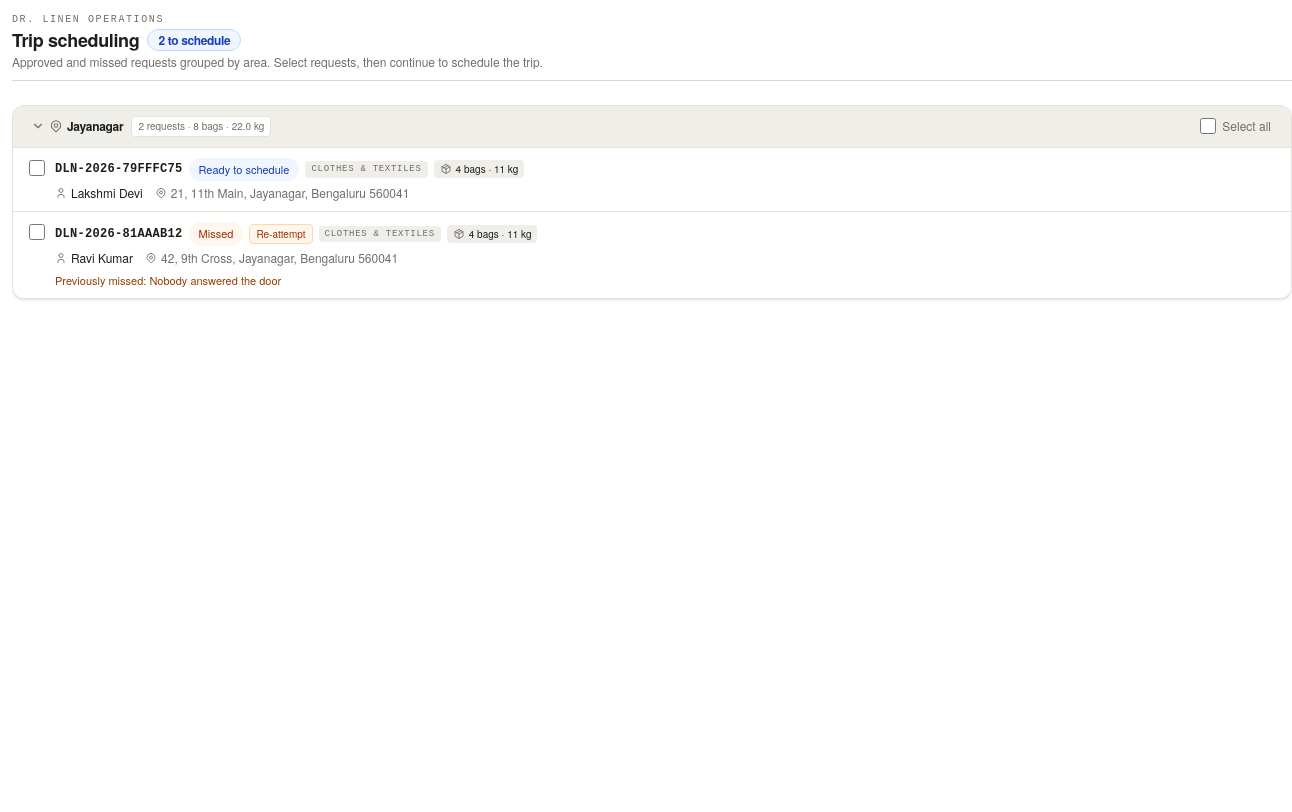
TextileSchedulePage › clears the selection from the sticky bar
The image size is (1292, 812).
Click the checkbox named "Select DLN-2026-79FFFC75" at (37, 168), box [29, 160, 45, 176]
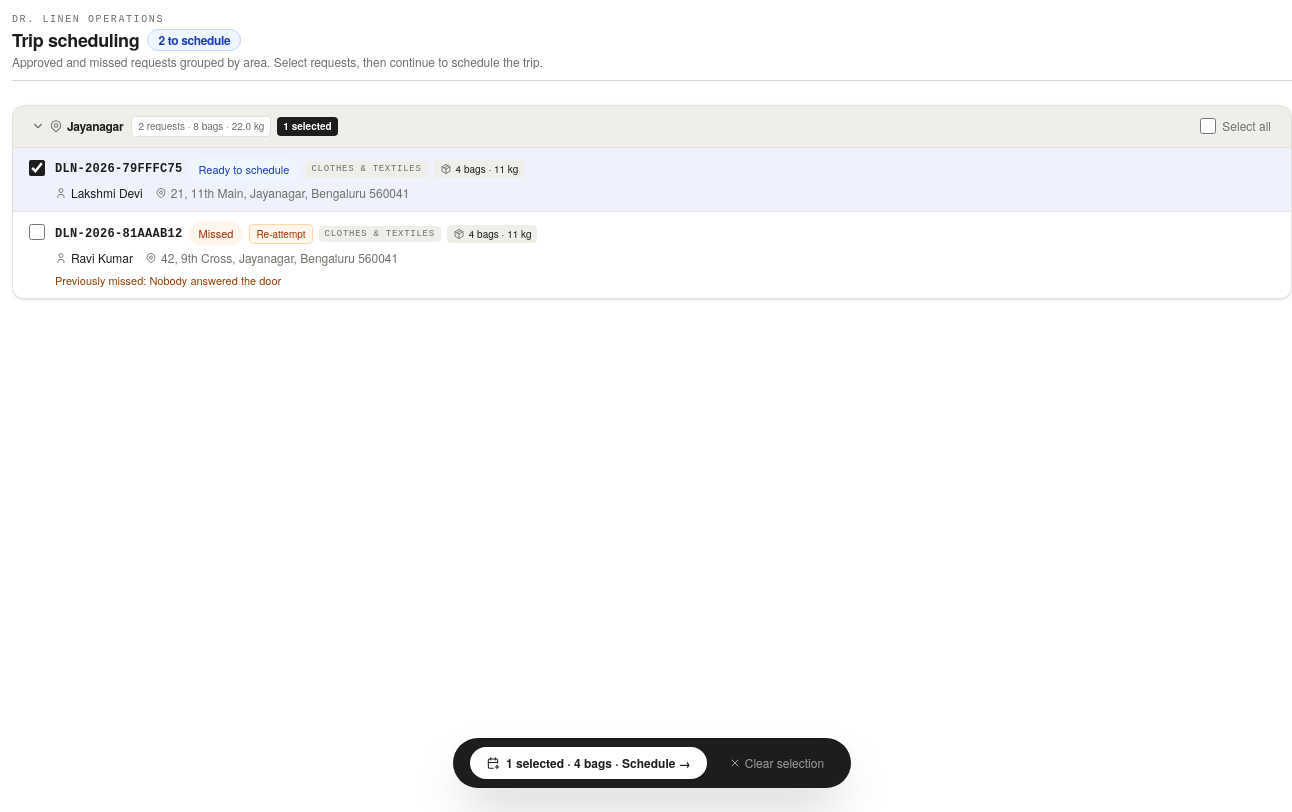
Check: the button "1 selected · 4 bags · Schedule →" is shown, box [470, 747, 707, 779]
Click the button "Clear selection" at (776, 763), box [719, 747, 834, 779]
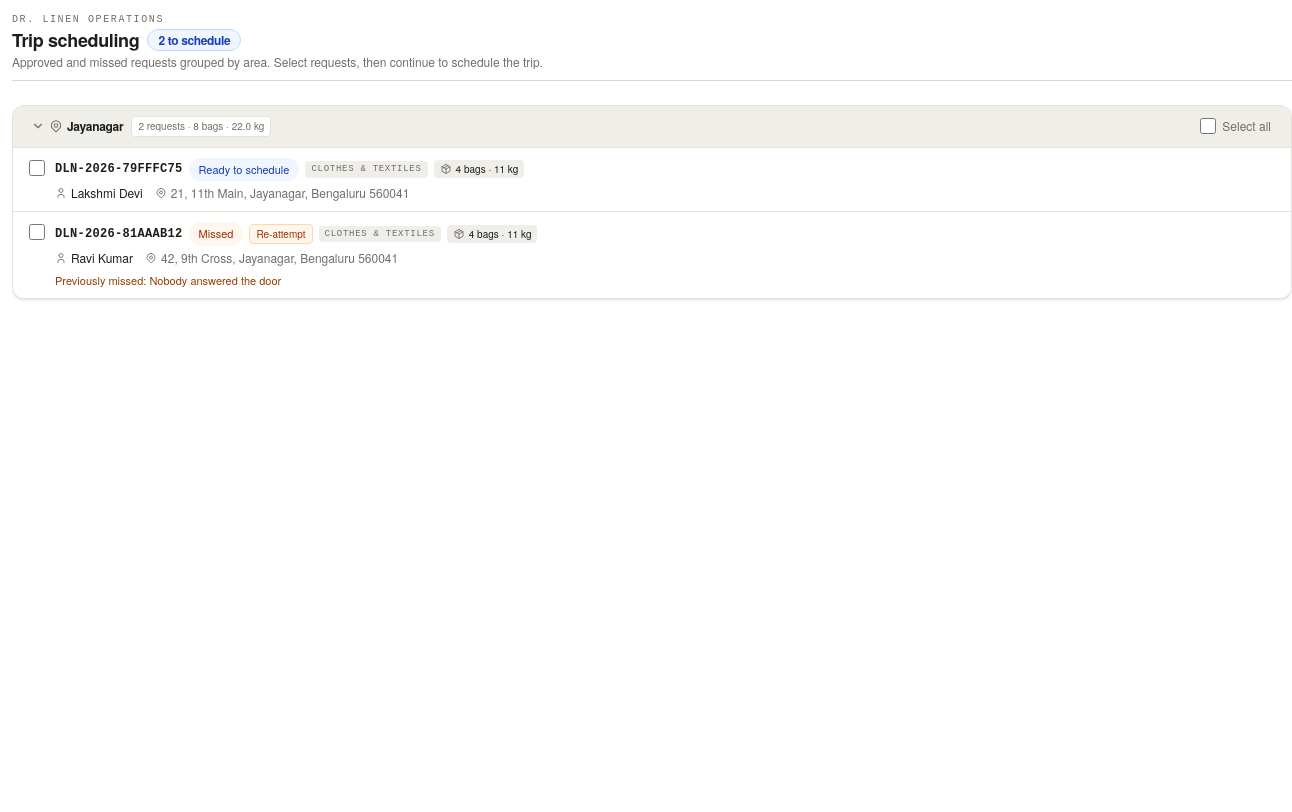
Check: the button "Schedule →" is gone
